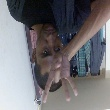hand: (39, 50, 79, 104)
